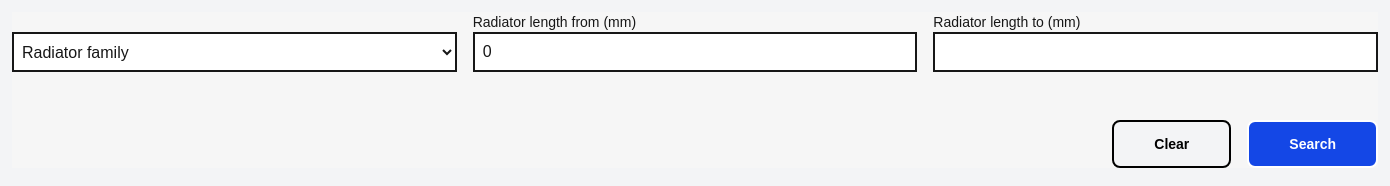
RadiatorForm › should clear the form when Clear button is clicked
Select "Family 1" in the dropdown named "Radiator family": (234, 52) [12,32,457,72]
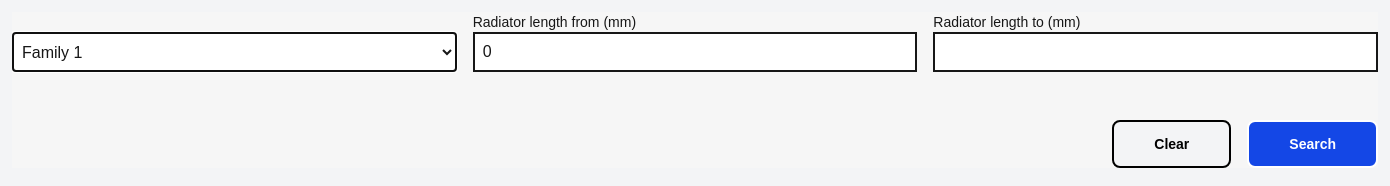
In the number field labelled "Radiator length from (mm)": (695, 52) [473,32,917,72], type "300"
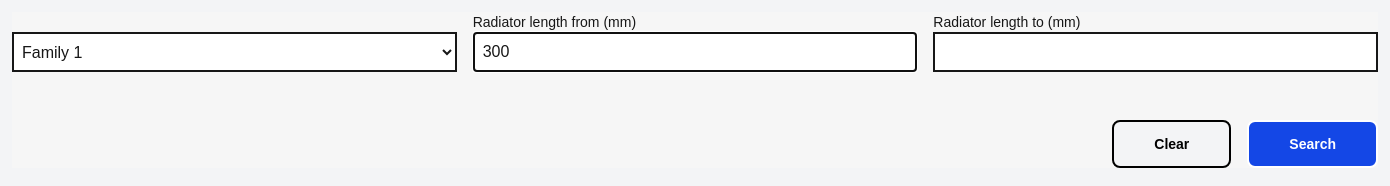
In the number field labelled "Radiator length to (mm)": (1156, 52) [933,32,1378,72], type "600"
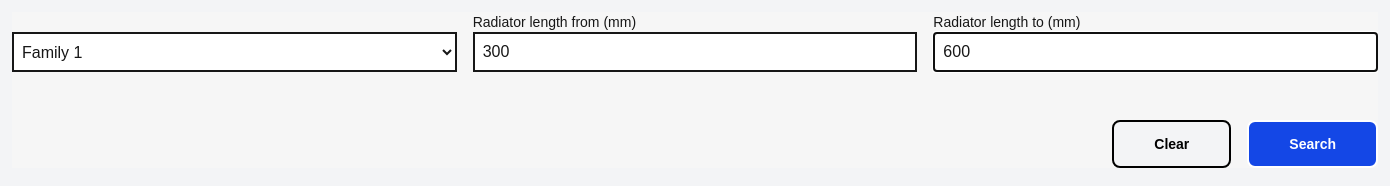
Click the button "Clear": (1172, 144) [1112,120,1231,168]
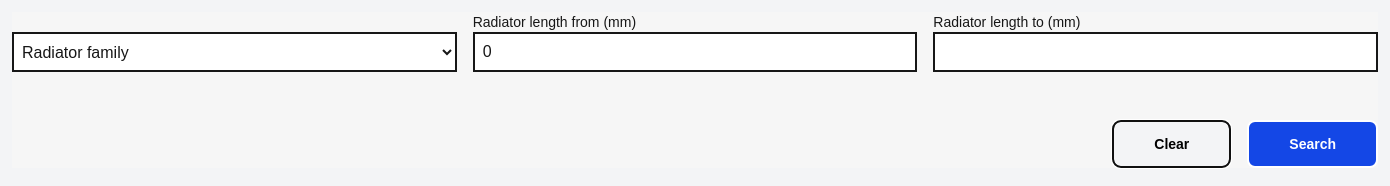
Now the number field labelled "Radiator length from (mm)" holds "0", box [473,32,917,72]
Now the number field labelled "Radiator length to (mm)" is not empty, box [933,32,1378,72]
